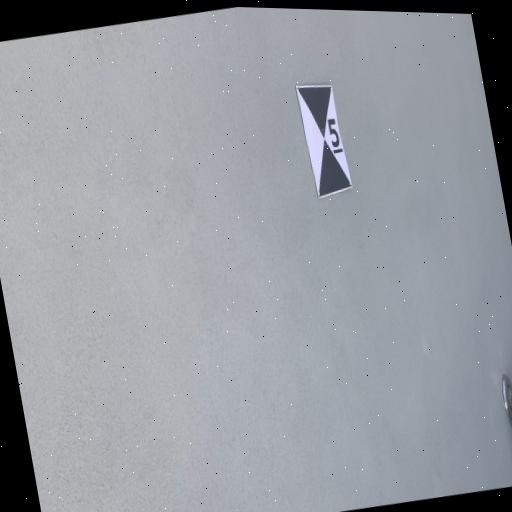target5: (296, 86, 353, 198)
